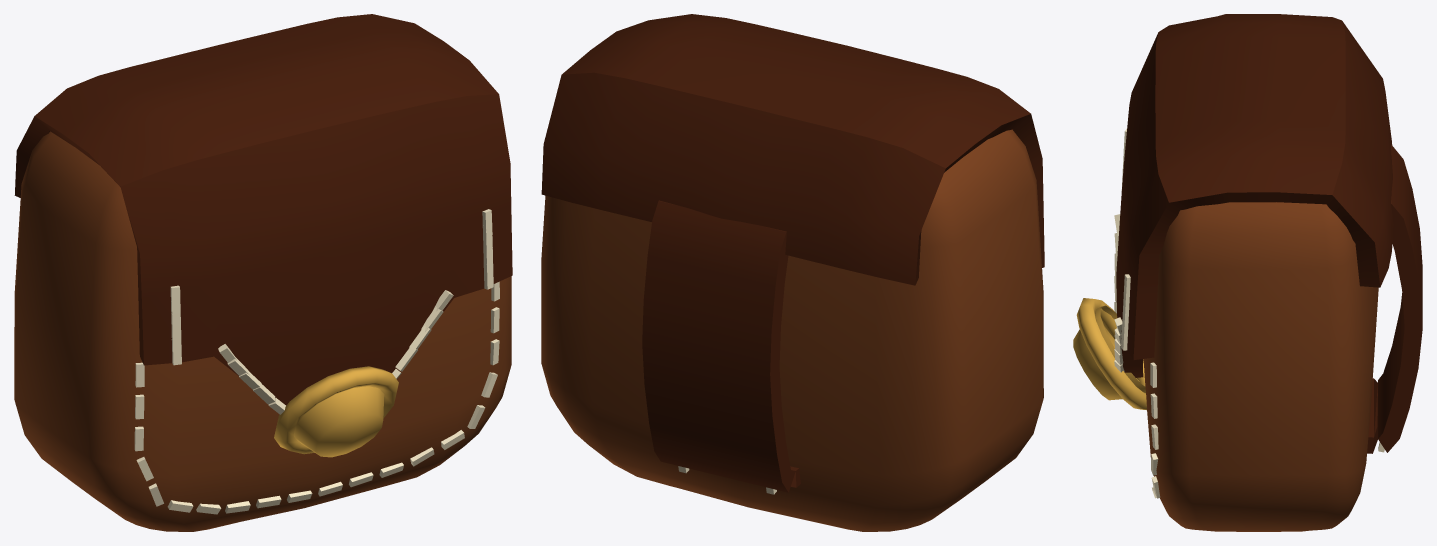
The model's file is item_pouch_leather.glb.
3 renders of one model, left to right at view 1: azimuth 30°, elevation 25°; view 2: azimuth 150°, elevation 25°; view 3: azimuth 270°, elevation 25°, orthographic. The views are drawn at different scales.
Parts seen in each view (by area): view 1: PouchLeather; view 2: PouchLeather; view 3: PouchLeather.
Part boxes in pixels (x1,y1,x2,y2): PouchLeather: [14, 14, 512, 531]; PouchLeather: [541, 14, 1044, 531]; PouchLeather: [1073, 14, 1422, 531].
Bounding box in the file's own units: 0.29 × 0.2719 × 0.2144.
